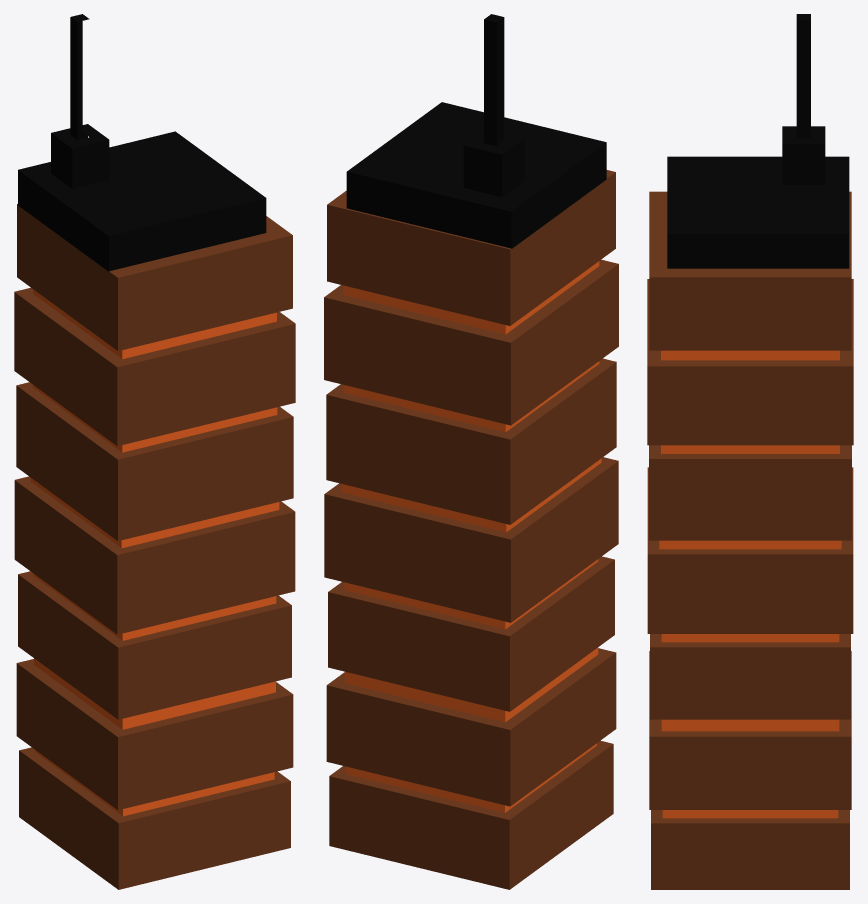
The picture shows the model from 3 angles, left to right: view 1: azimuth 30°, elevation 25°; view 2: azimuth 150°, elevation 25°; view 3: azimuth 270°, elevation 25°; orthographic projection. The views are drawn at different scales.
Visible parts, largest first — view 1: Cube.004; view 2: Cube.004; view 3: Cube.004.
Part boxes in pixels (x1,y1,x2,y2): Cube.004: (14, 14, 295, 889); Cube.004: (324, 14, 618, 889); Cube.004: (647, 14, 853, 889).
Bounding box in the file's own units: 442 × 1907 × 442.
